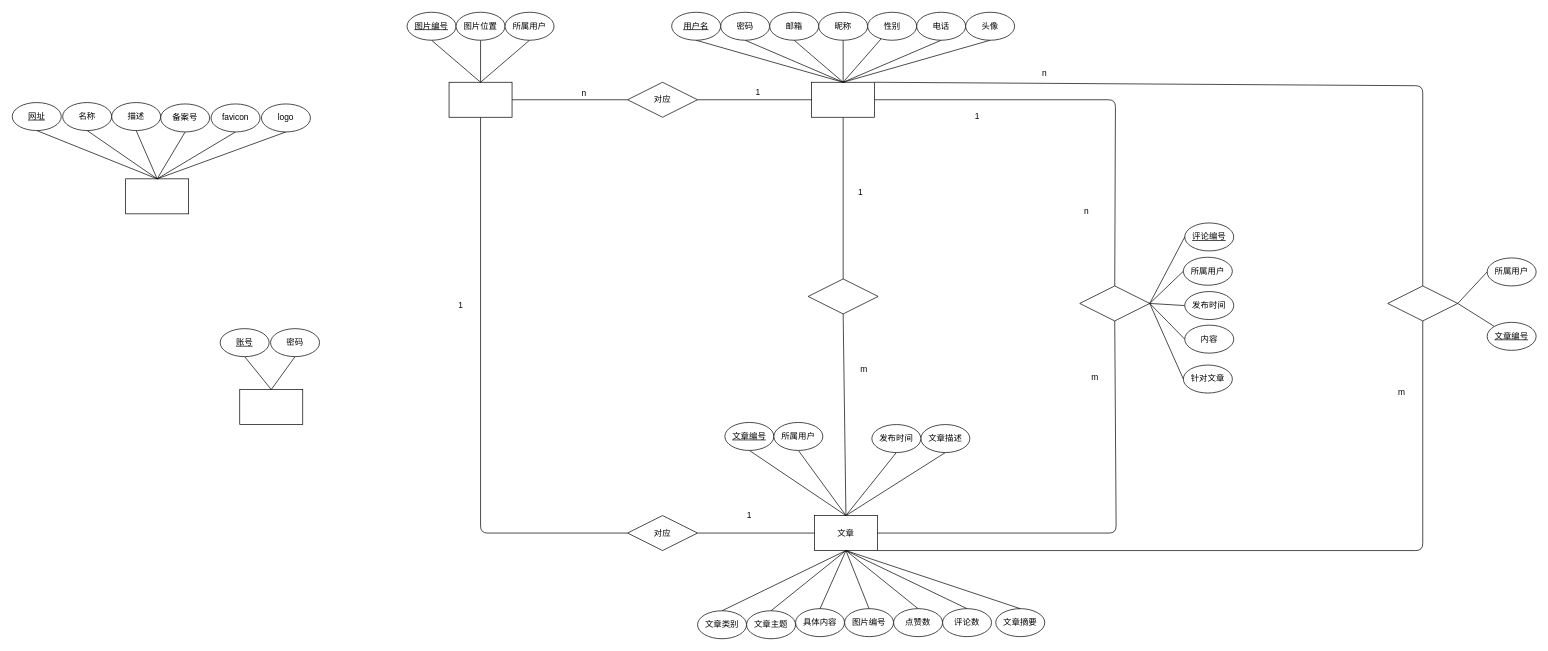
Some shapes in this 1548 by 651 pixel diagram are drawn without their labels. The centre of each missing label's shape, as x and y in pixels:
"图片" goes at pixel 480 99.
"收藏" goes at pixel 1422 303.
"用户" goes at pixel 843 99.
"管理员" goes at pixel 271 407.
"编写" goes at pixel 842 296.
"网站" goes at pixel 157 196.
"评论" goes at pixel 1114 303.
